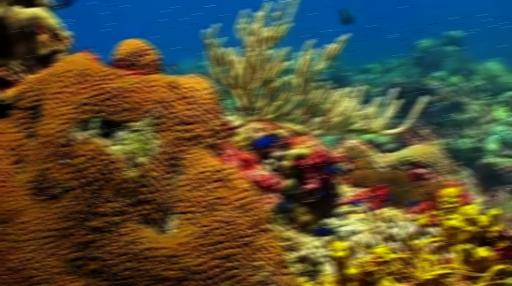Fish: (251, 133, 280, 151), (274, 198, 291, 213), (310, 226, 335, 236), (50, 0, 75, 9), (340, 7, 351, 25), (167, 62, 178, 74), (325, 164, 336, 175), (0, 105, 10, 116), (347, 199, 362, 206), (384, 195, 397, 203), (333, 211, 346, 218), (405, 200, 418, 207), (363, 206, 372, 215)
